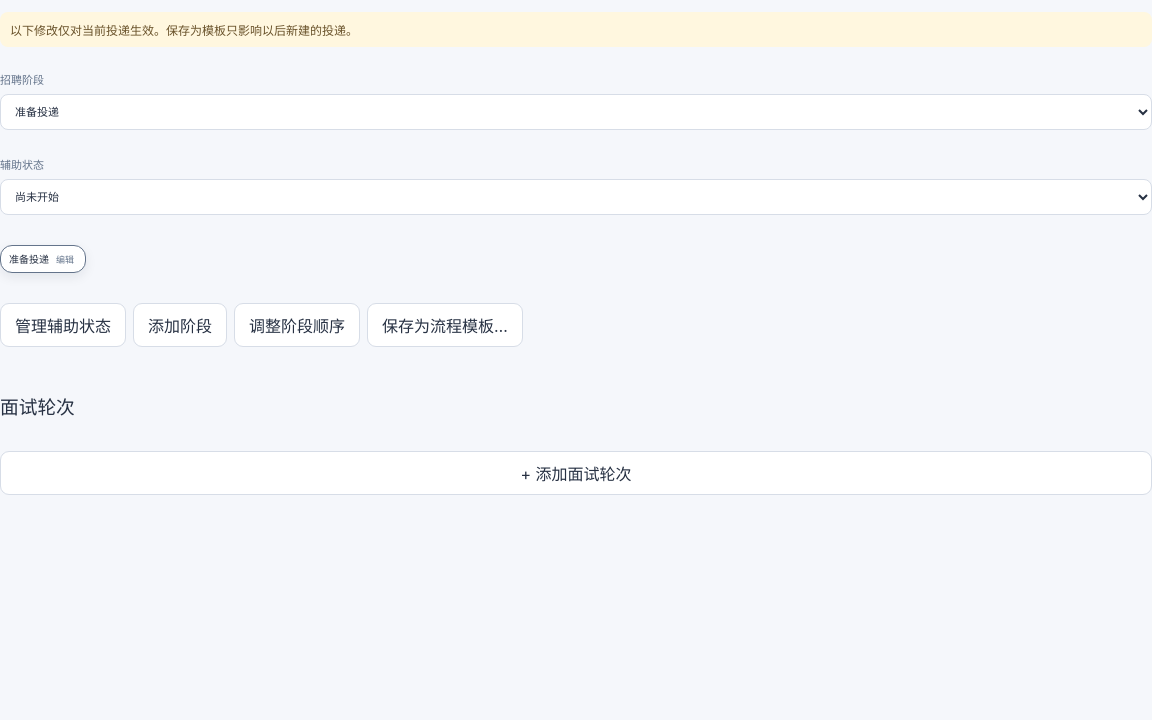
record-scoped workflow forms › uses scoped state keys for progress and interview selections without offering a custom terminal
Expected: the option "未通过" is not shown
Select "待主管回复" in the dropdown labelled "辅助状态": (576, 197) x1=0 y1=179 x2=1151 y2=215
Click the button "+ 添加面试轮次": (576, 473) x1=0 y1=451 x2=1151 y2=495
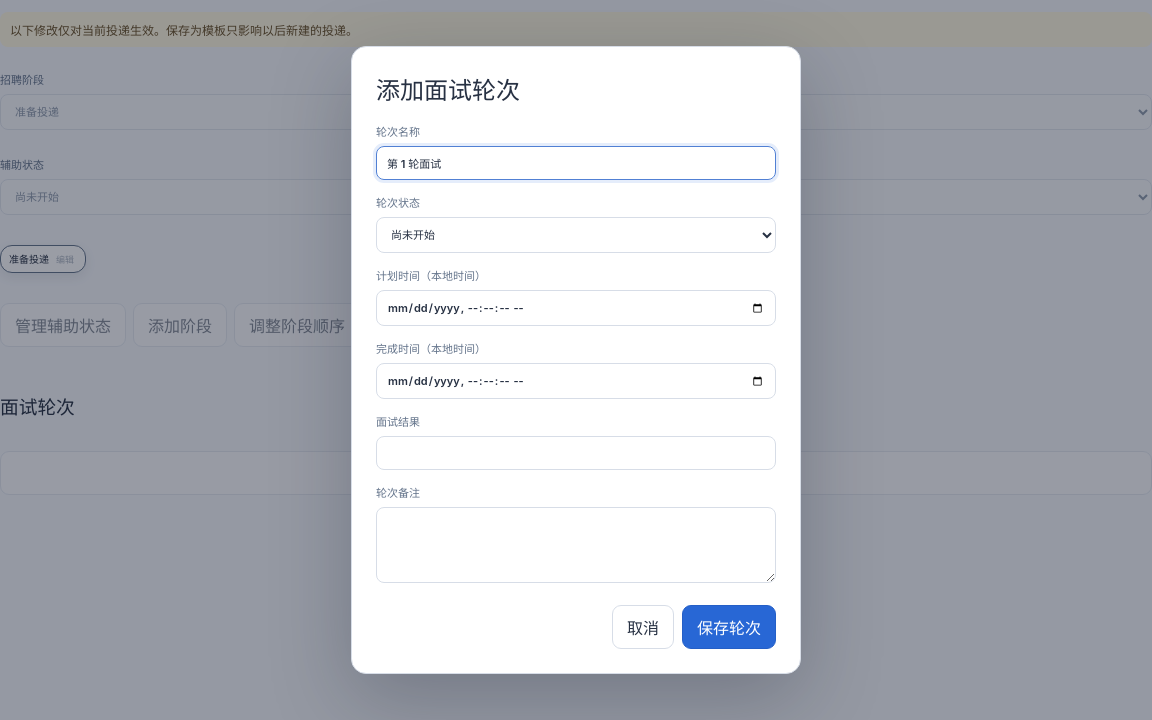
Select "待主管回复" in the dropdown labelled "轮次状态": (576, 235) x1=376 y1=217 x2=776 y2=253
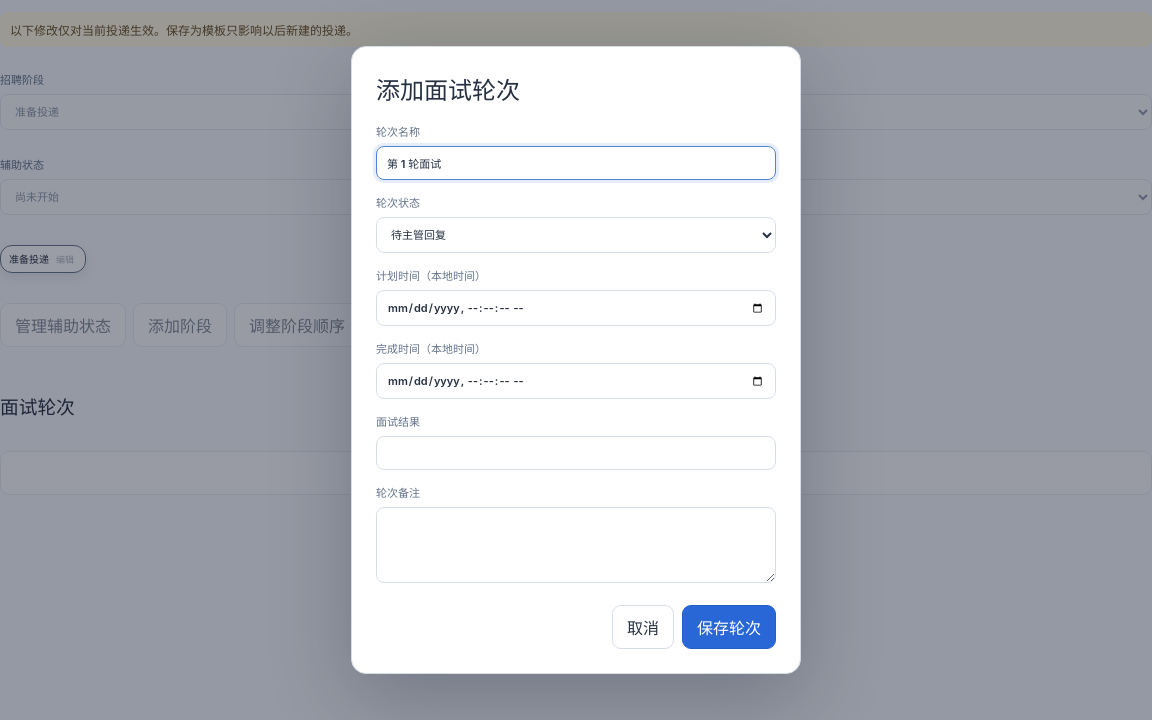
Click the button "保存轮次": (729, 627) x1=682 y1=605 x2=776 y2=649
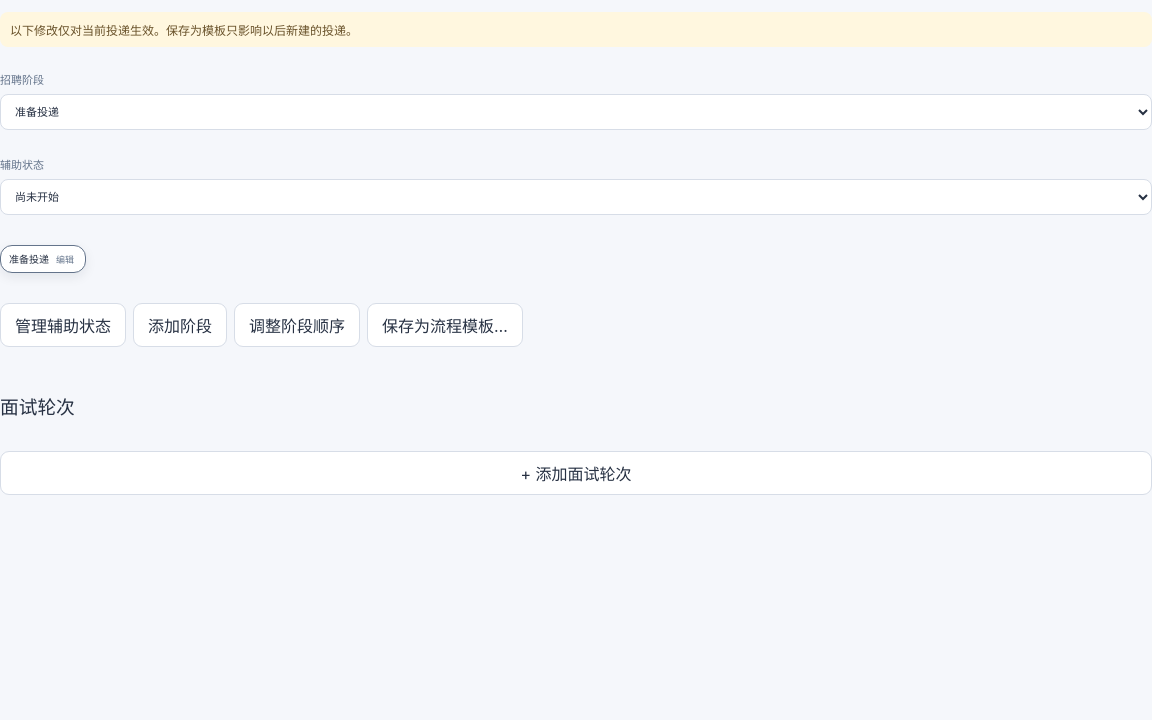
Now the dialog is gone
Click the button "管理辅助状态": (63, 325) x1=0 y1=303 x2=126 y2=347
(page scrolled)
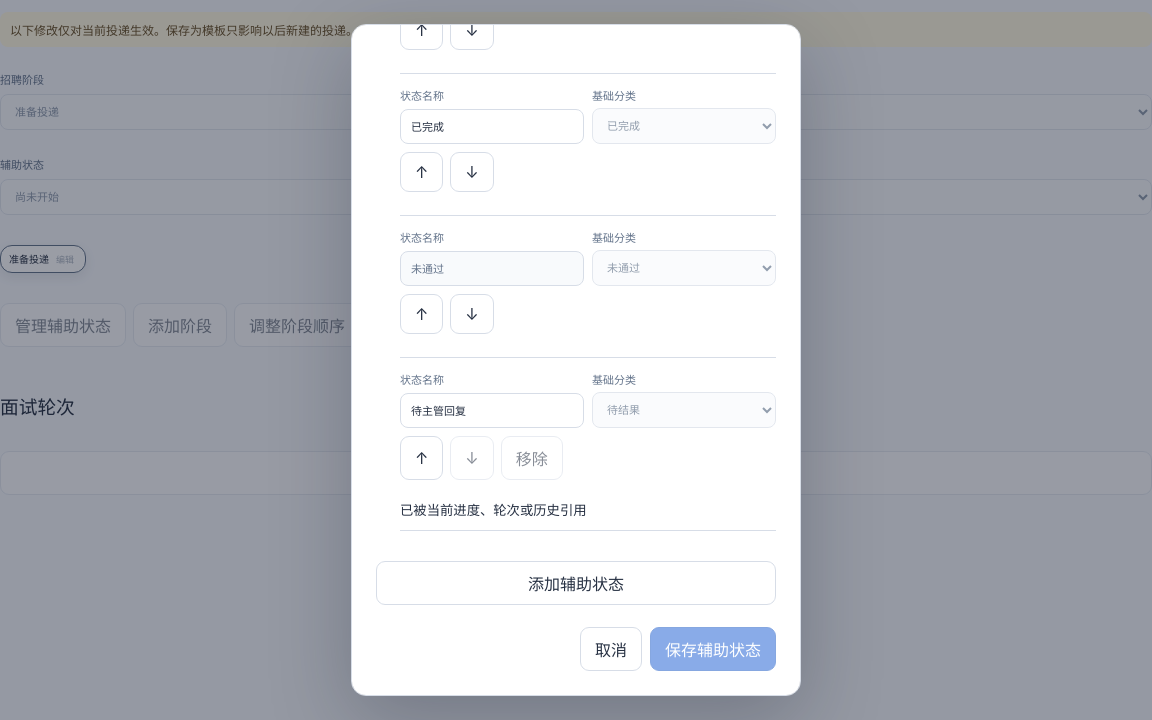
Now the button with aria-label "移除辅助状态 待主管回复" is disabled, box x1=501 y1=436 x2=563 y2=480
